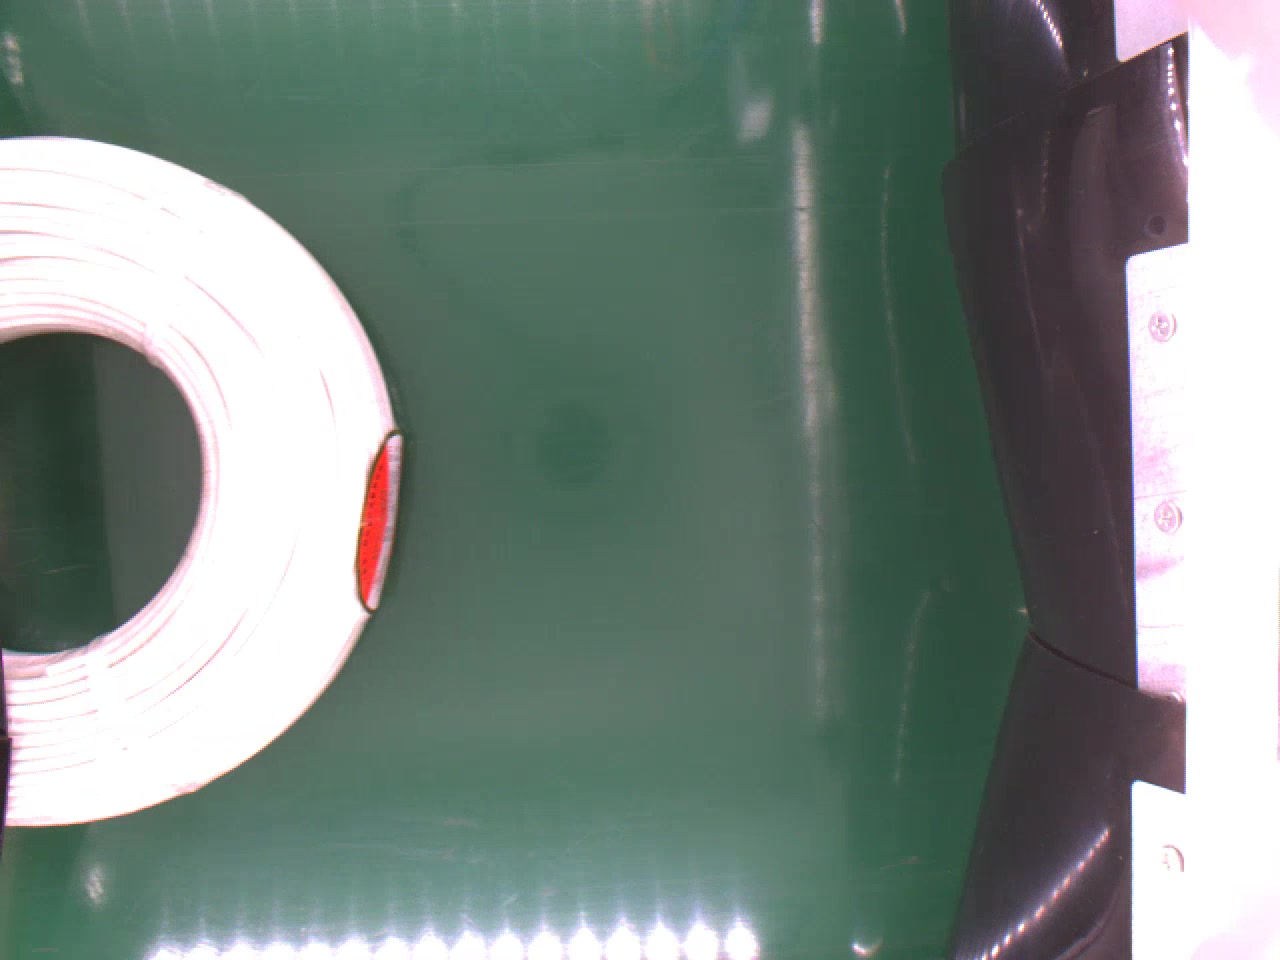white: (0, 135, 406, 838)
